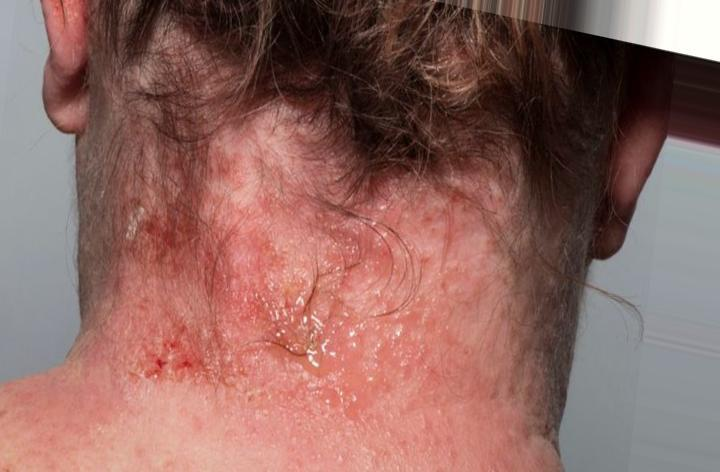Contact Dermatitis: (119, 69, 579, 380)
